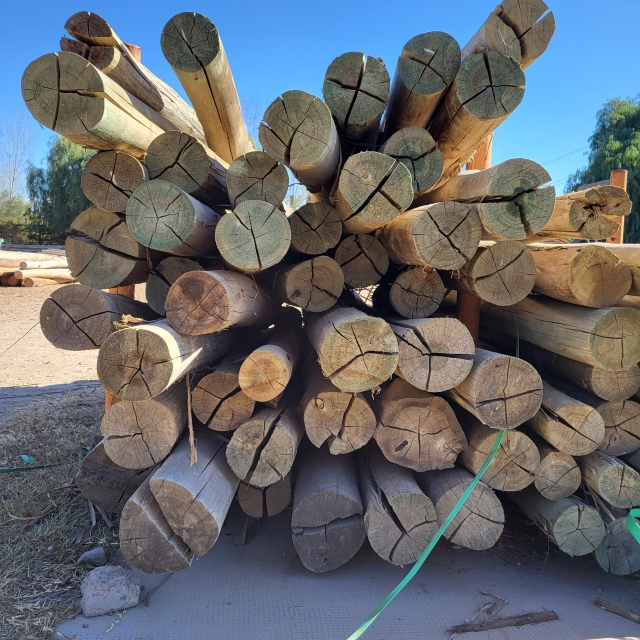stick: (119, 478, 220, 574), (20, 51, 105, 135), (375, 396, 468, 472), (319, 314, 400, 393), (291, 489, 366, 574), (480, 158, 556, 240), (65, 206, 138, 290), (75, 443, 160, 513), (398, 317, 476, 393), (258, 89, 332, 168), (96, 327, 173, 402), (338, 150, 414, 225), (214, 199, 292, 271), (363, 493, 439, 565), (100, 399, 177, 469), (473, 355, 544, 430), (322, 51, 390, 125), (126, 179, 196, 250), (434, 482, 505, 552), (454, 50, 526, 119), (412, 201, 483, 270), (39, 284, 110, 351), (304, 391, 377, 455), (226, 420, 295, 487), (472, 239, 536, 308), (566, 244, 633, 309), (471, 430, 540, 492), (165, 270, 230, 335), (397, 31, 461, 97), (145, 129, 210, 193), (485, 1, 555, 60), (383, 126, 444, 193), (80, 151, 144, 212), (191, 371, 256, 431), (160, 11, 220, 73), (567, 185, 633, 240), (284, 255, 345, 313), (226, 151, 289, 206), (59, 11, 114, 71), (589, 307, 640, 370), (545, 404, 606, 456), (335, 233, 390, 288), (289, 202, 343, 255), (389, 266, 445, 317), (553, 505, 605, 556), (238, 351, 289, 402), (596, 517, 640, 576), (237, 473, 292, 518), (534, 451, 582, 502), (590, 363, 640, 401), (597, 465, 640, 508)
